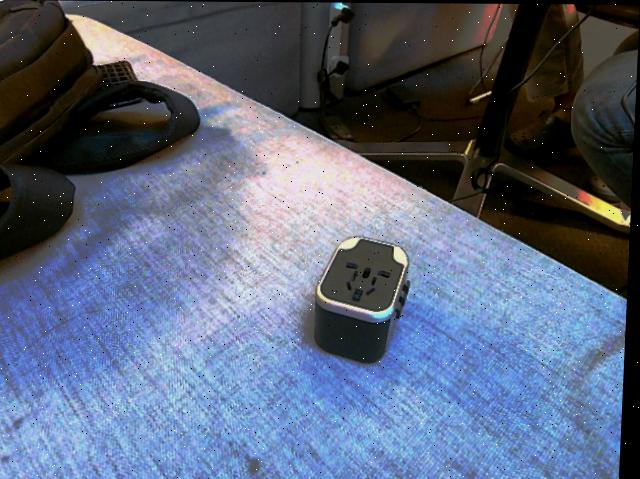adapter: (313, 235, 414, 363)
